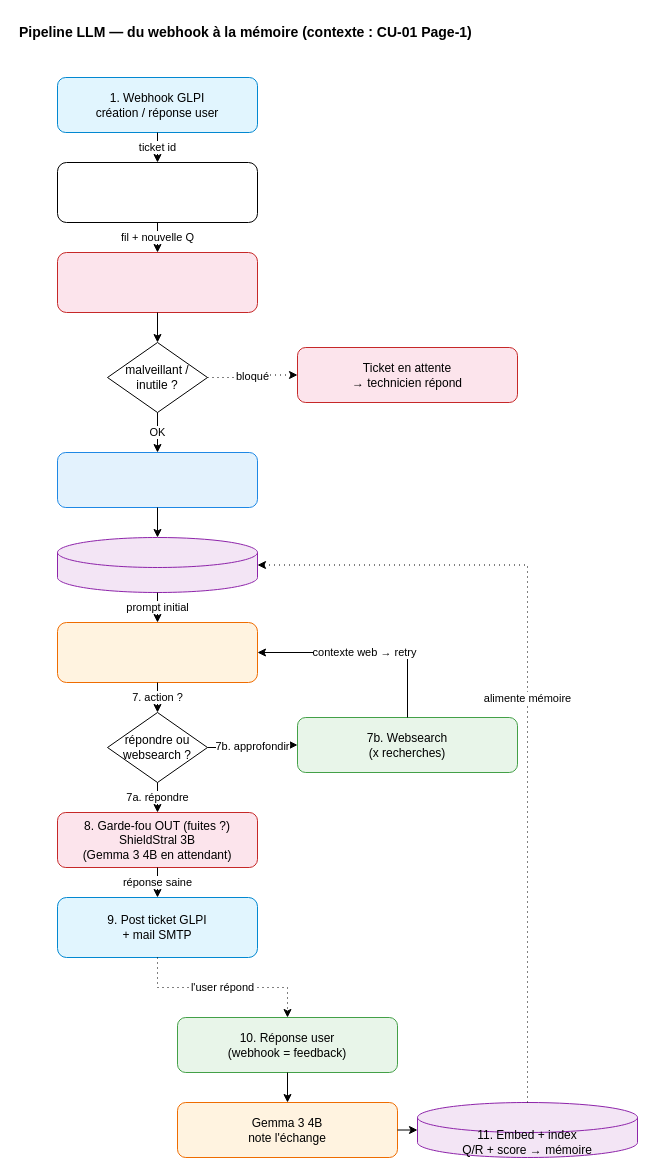
Image size: 655x1175. Some labels were removed from this diagram. Here are the shapes that lost their labels. From the top down, the centre of each, then its label:
the point at 157,192: 2. GET ticket question ou fil (même ticket)
the point at 157,282: 3. Garde-fou IN ShieldStral 3B (Gemma 3 4B en attendant)
the point at 157,480: 4. Embeddings bge-multilingual-gemma2
the point at 157,564: 5. Top-k + reranker → prompt initial
the point at 157,652: 6. Gemma 3 12B
